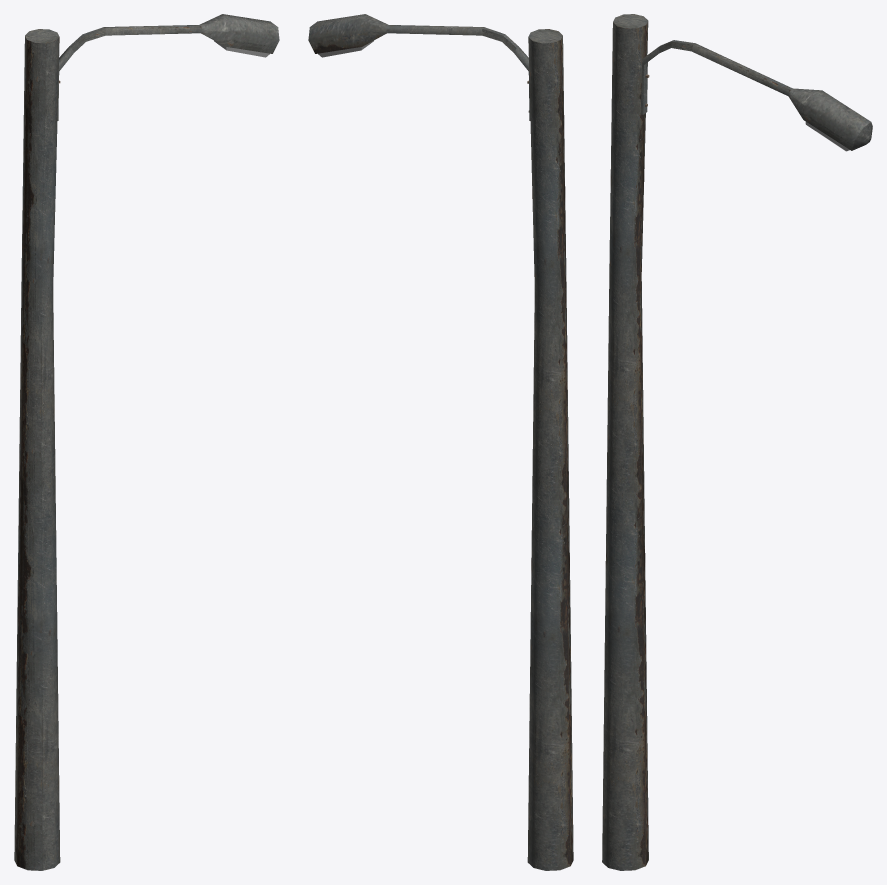
The model's file is LampPostA.FBX.
3 views of the same model, side by side, from view 1: azimuth 30°, elevation 25°; view 2: azimuth 150°, elevation 25°; view 3: azimuth 330°, elevation 25° (orthographic). The views are drawn at different scales.
Parts seen in each view (by area): view 1: LampPostA; view 2: LampPostA; view 3: LampPostA.
Boxes of the visible parts, <box> form: LampPostA: <box>14,14,279,870</box>; LampPostA: <box>308,14,573,870</box>; LampPostA: <box>602,14,872,870</box>.
Size of the model in its own units: 205 by 622 by 29.99.
Materials: 2 (1 with a texture image).
